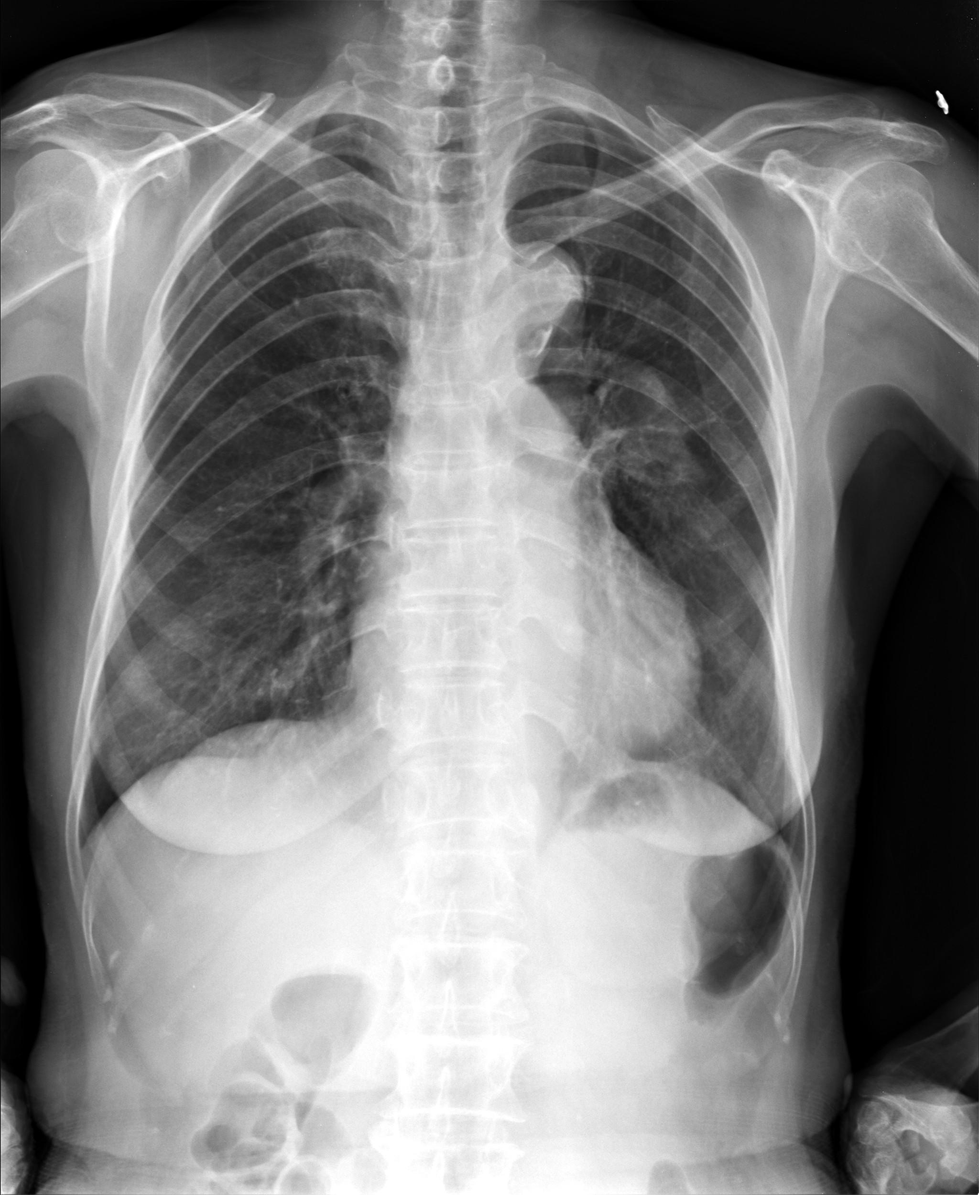Aortic enlargement: (484, 240, 587, 384)
Pulmonary fibrosis: (605, 405, 727, 441)
